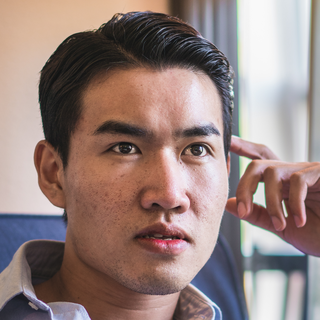eye: (94, 134, 149, 167), (171, 133, 219, 167)
